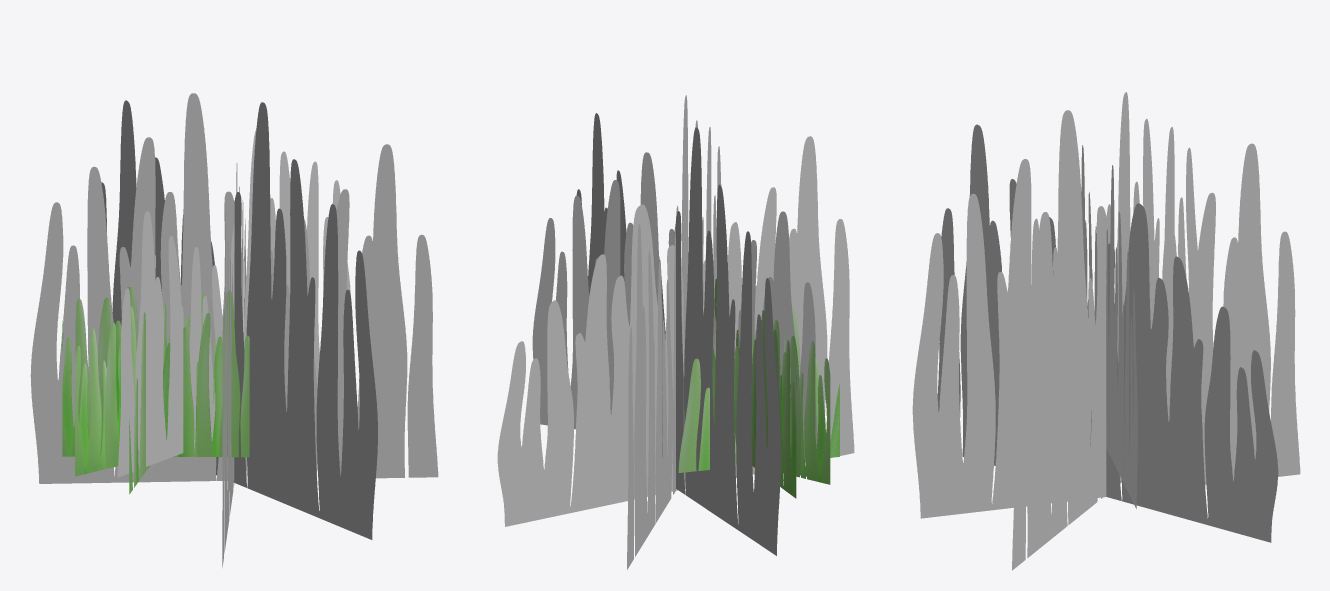
Rendered from Grass.fbx.
3 views of the same model, side by side, from view 1: azimuth 30°, elevation 25°; view 2: azimuth 150°, elevation 25°; view 3: azimuth 270°, elevation 25° (orthographic). The views are drawn at different scales.
Parts seen in each view (by area): view 1: diffuse03.001, Alpha02.001, Alpha02, Alpha02.002; view 2: diffuse03.001, Alpha02, Alpha02.002, Alpha02.001; view 3: diffuse03.001.
Part boxes in pixels (left/top/right/bottom): diffuse03.001: left=30, top=93, right=438, bottom=567; Alpha02.001: left=62, top=287, right=249, bottom=457; Alpha02: left=75, top=294, right=215, bottom=476; Alpha02.002: left=129, top=304, right=166, bottom=494; diffuse03.001: left=497, top=95, right=854, bottom=569; Alpha02: left=703, top=310, right=830, bottom=484; Alpha02.002: left=678, top=307, right=839, bottom=472; Alpha02.001: left=714, top=278, right=796, bottom=498; diffuse03.001: left=912, top=92, right=1300, bottom=570.
Size of what is drawn, in the model's own units: 87.44 by 100 by 94.17.
